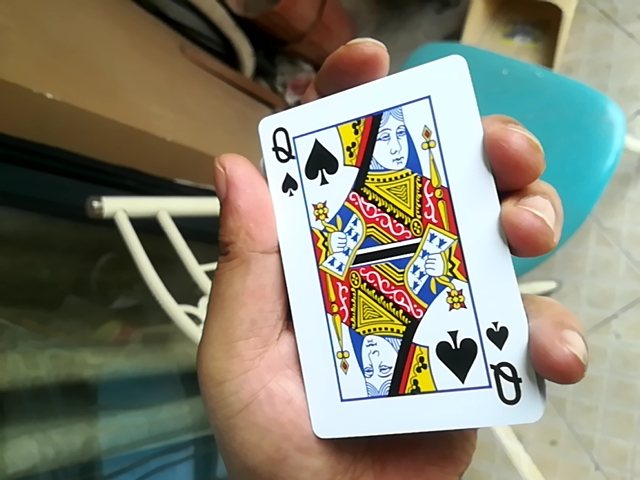ht q: (237, 50, 544, 446)
